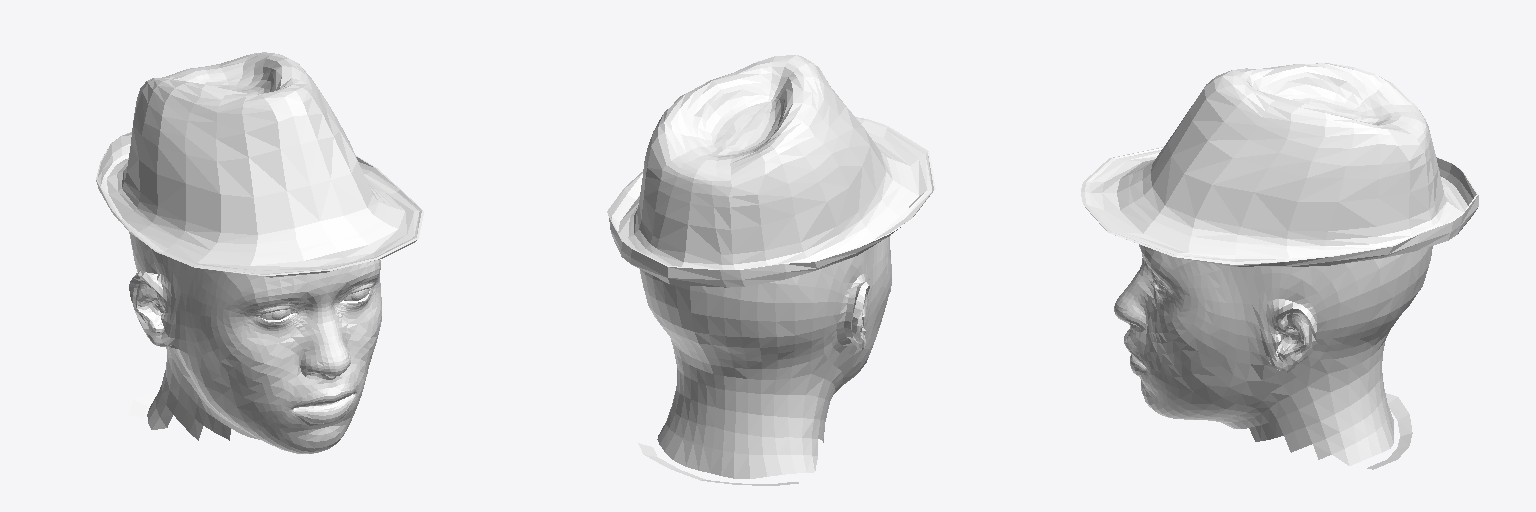
File: veik.obj
3 views of the same model, side by side, from view 1: azimuth 30°, elevation 25°; view 2: azimuth 150°, elevation 25°; view 3: azimuth 270°, elevation 25° (orthographic).
Bounding box in the file's own units: 0.1863 × 0.2573 × 0.2578.